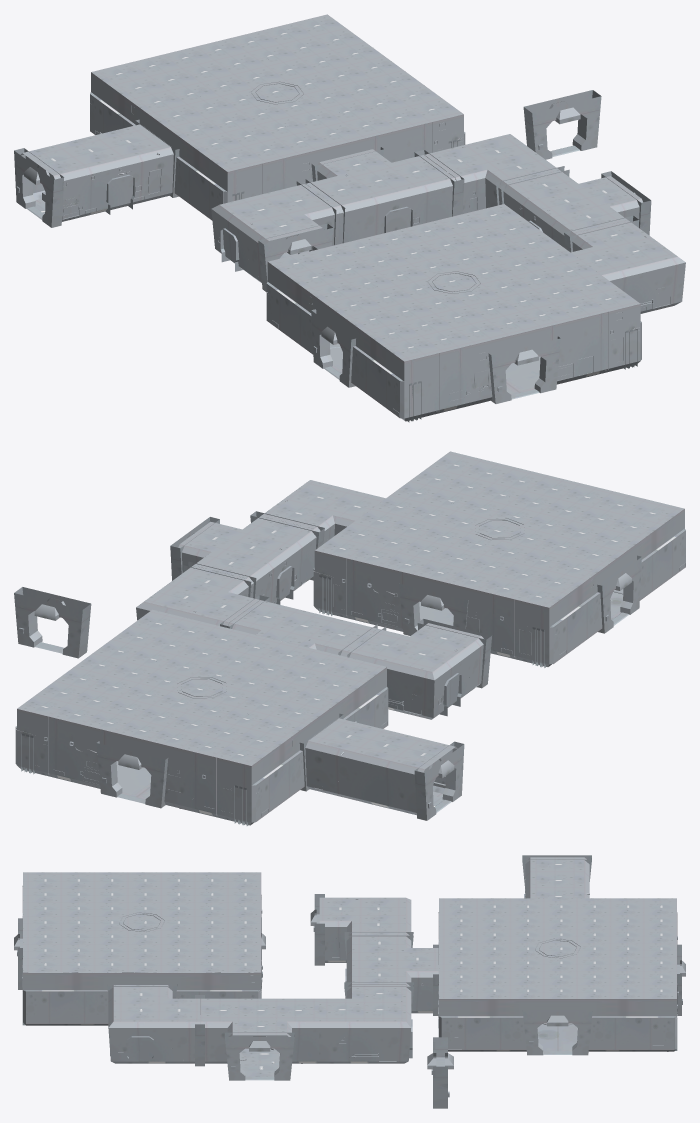
Rendered from Combined_Mesh_root_scene__15_7f71ba4d__ZombiesII_laboratory_02_d_7436f9f5_c1f257.obj.
3 renders of one model, top to bottom at view 1: azimuth 30°, elevation 25°; view 2: azimuth 150°, elevation 25°; view 3: azimuth 270°, elevation 25°, orthographic. The views are drawn at different scales.
Size of the model in its own units: 84.62 by 10.34 by 113.
591 materials, 591 textured.
